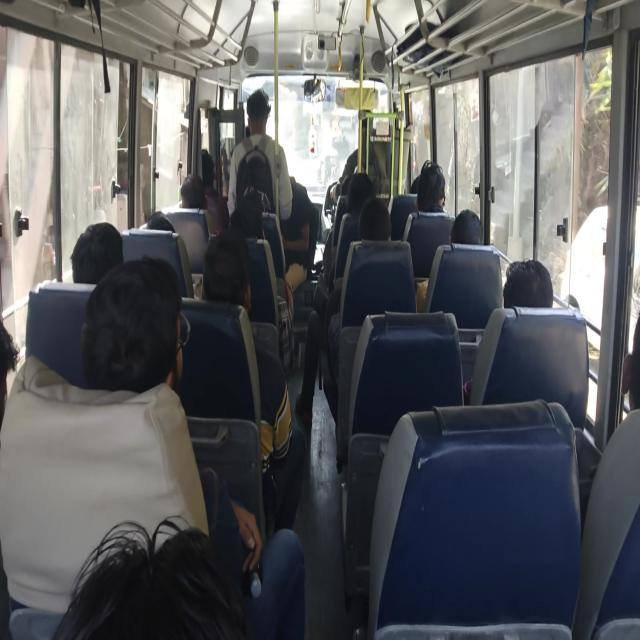person: (78, 510, 222, 640), (91, 269, 178, 387), (503, 254, 565, 322), (206, 242, 248, 323), (280, 180, 311, 274), (73, 229, 126, 283), (620, 314, 640, 408), (0, 326, 23, 407), (233, 208, 267, 255), (247, 86, 277, 138), (199, 134, 224, 193), (451, 212, 486, 254), (422, 156, 448, 207), (180, 175, 209, 218), (364, 202, 391, 240), (327, 212, 340, 281), (147, 209, 172, 243), (243, 178, 271, 208), (352, 160, 368, 211), (413, 173, 426, 191)
